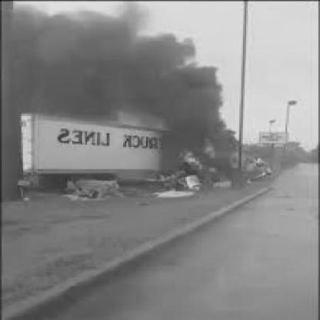Smoke: (10, 17, 207, 133)
